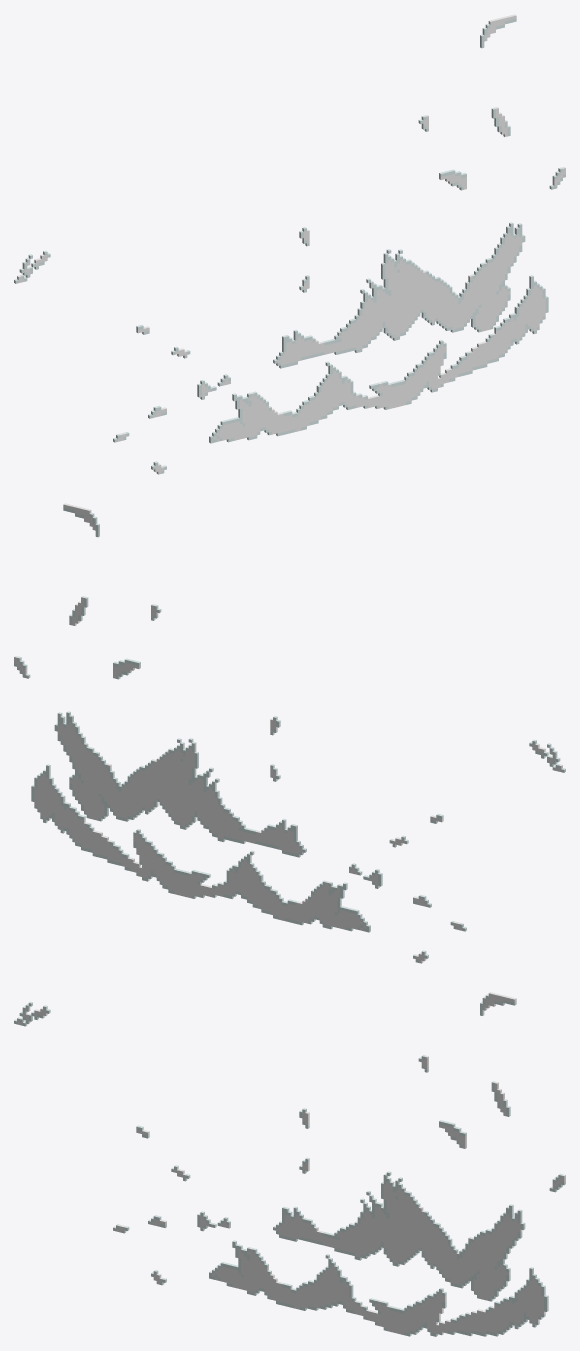
File: Fight_759_2_09_fx.obj
3 views of the same model, one above another, from view 1: azimuth 30°, elevation 25°; view 2: azimuth 150°, elevation 25°; view 3: azimuth 330°, elevation 25° (orthographic).
Size of the model in its own units: 18.9 by 12.2 by 0.1.
Materials: 1 (1 with a texture image).
